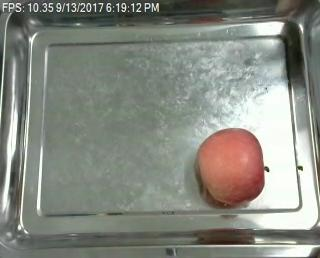apple: (196, 127, 270, 205)
